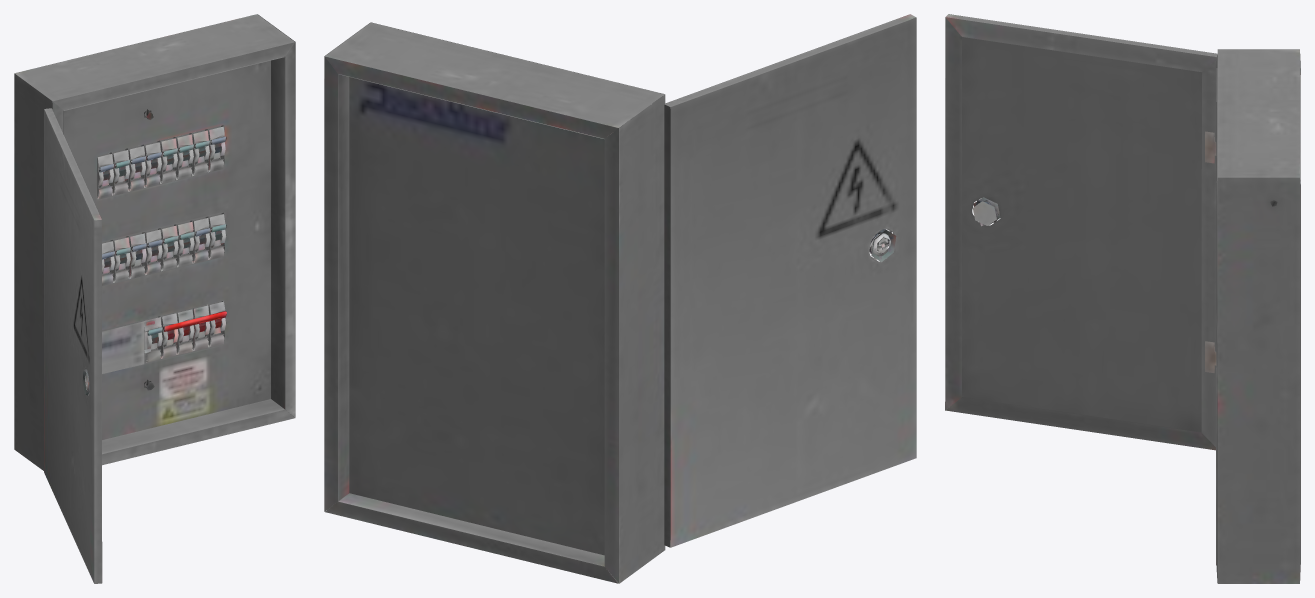
File: power_box_01.glb
3 renders of one model, left to right at view 1: azimuth 30°, elevation 25°; view 2: azimuth 150°, elevation 25°; view 3: azimuth 270°, elevation 25°, orthographic. The views are drawn at different scales.
Visible parts, largest first — view 1: power_box_01_door; view 2: power_box_01_door; view 3: power_box_01_door.
Part boxes in pixels (x1,y1,x2,y2): power_box_01_door: [14, 14, 295, 583]; power_box_01_door: [324, 14, 916, 583]; power_box_01_door: [945, 14, 1300, 583].
Size of the model in its own units: 0.4569 by 0.5037 by 0.3994.
1 material, 1 textured.
